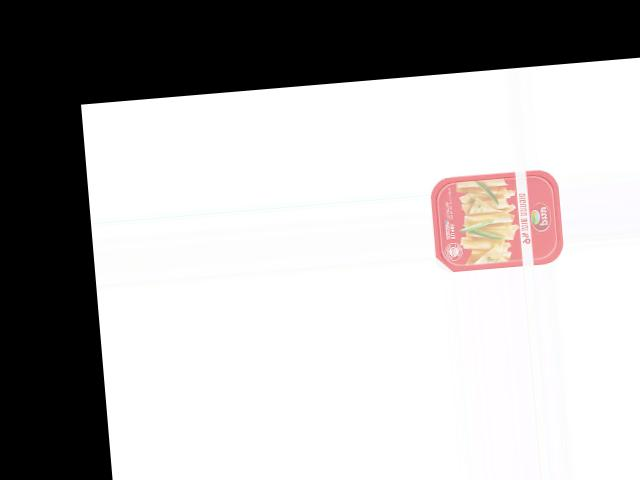cheese: (428, 167, 565, 272)
